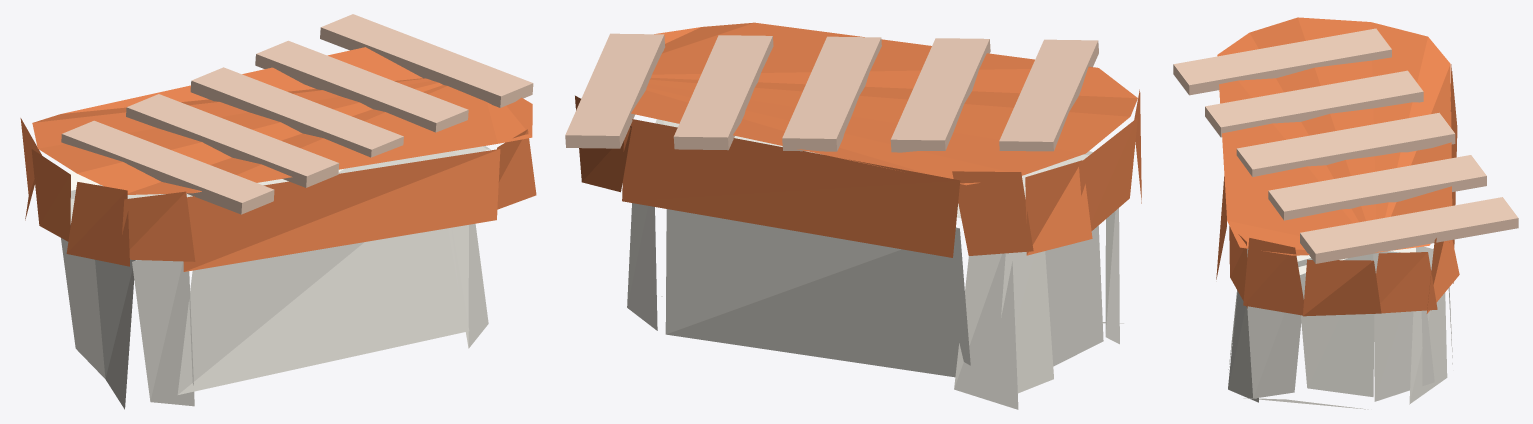
Rendered from food_sushi.glb.
3 renders of one model, left to right at view 1: azimuth 30°, elevation 25°; view 2: azimuth 150°, elevation 25°; view 3: azimuth 270°, elevation 25°, orthographic. The views are drawn at different scales.
Visible parts, largest first — view 1: food_sushi; view 2: food_sushi; view 3: food_sushi.
Boxes of the visible parts, x1=… form: food_sushi: x1=20, y1=14, x2=536, y2=409; food_sushi: x1=565, y1=22, x2=1141, y2=409; food_sushi: x1=1173, y1=17, x2=1518, y2=409.
Size of the model in its own units: 0.0654 by 0.0308 by 0.0448.
